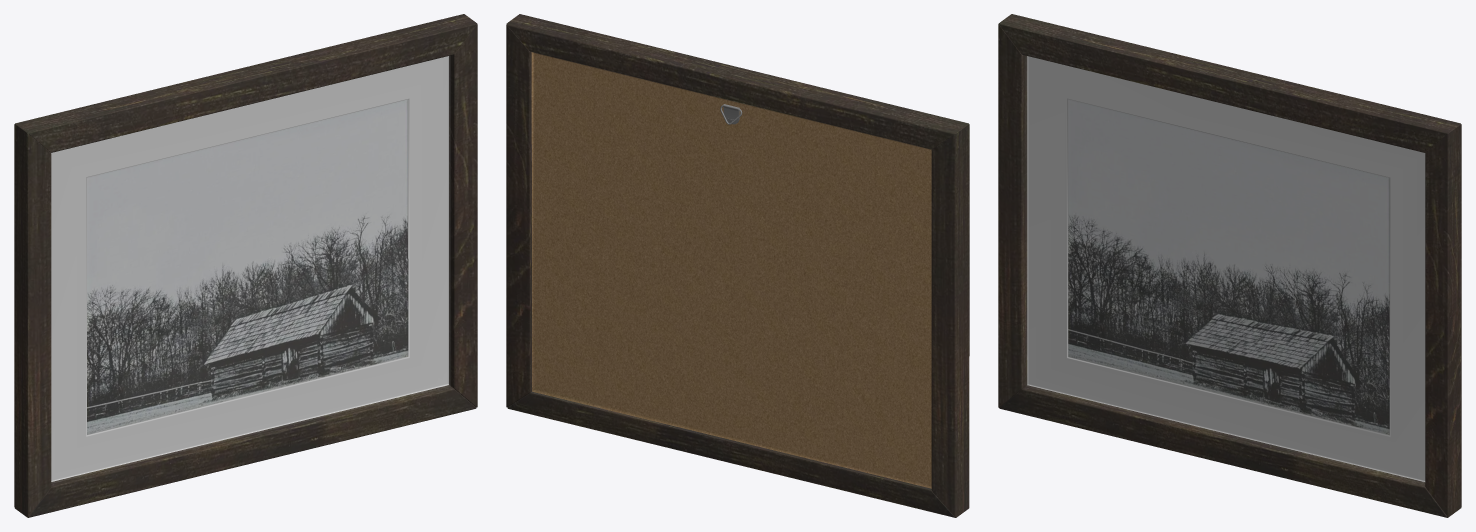
The model's file is abo-B075YLMBYB.glb.
3 views of the same model, side by side, from view 1: azimuth 30°, elevation 25°; view 2: azimuth 150°, elevation 25°; view 3: azimuth 330°, elevation 25° (orthographic).
Bounding box in the file's own units: 0.56 × 0.458 × 0.035.
Materials: 1 (1 with a texture image).
